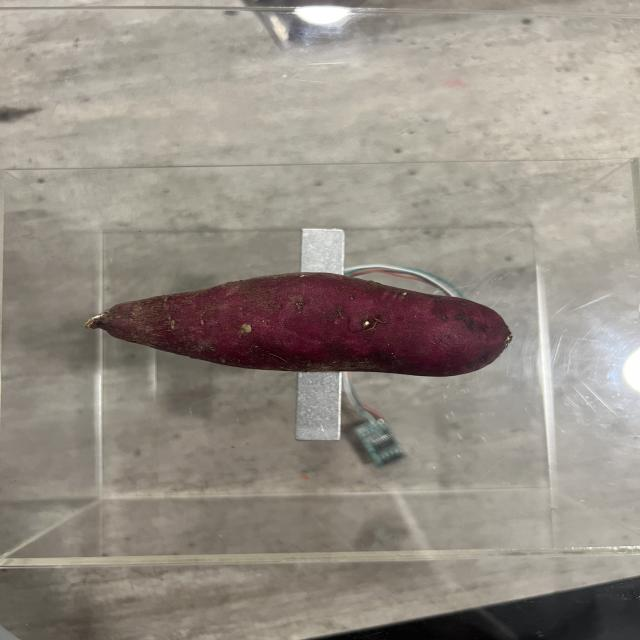sweet potato: (85, 272, 510, 380)
